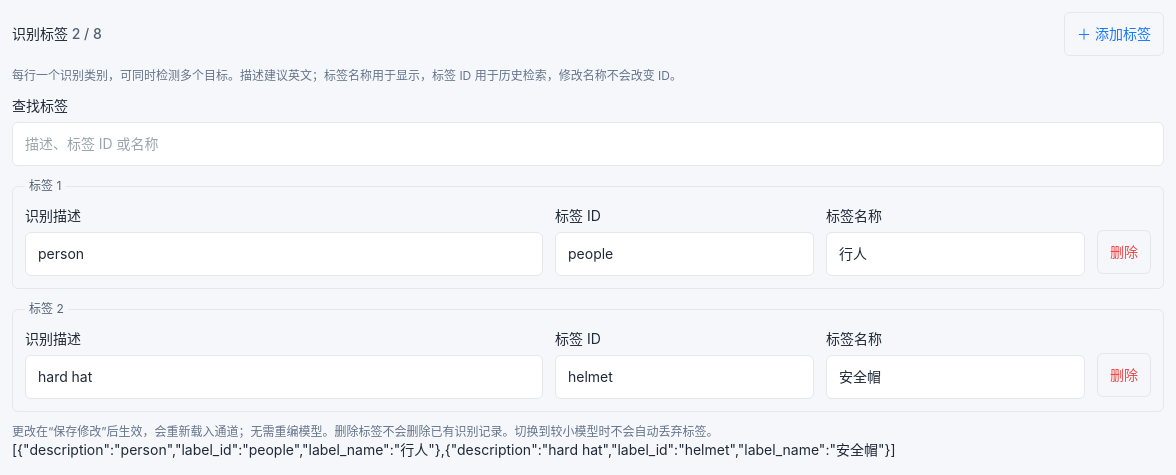
PromptLabelEditor › 最后一个标签不能删除
The width and height of the screenshot is (1176, 475).
Click the button with aria-label "删除标签 2": {"x": 1124, "y": 375} x1=1097 y1=353 x2=1151 y2=397
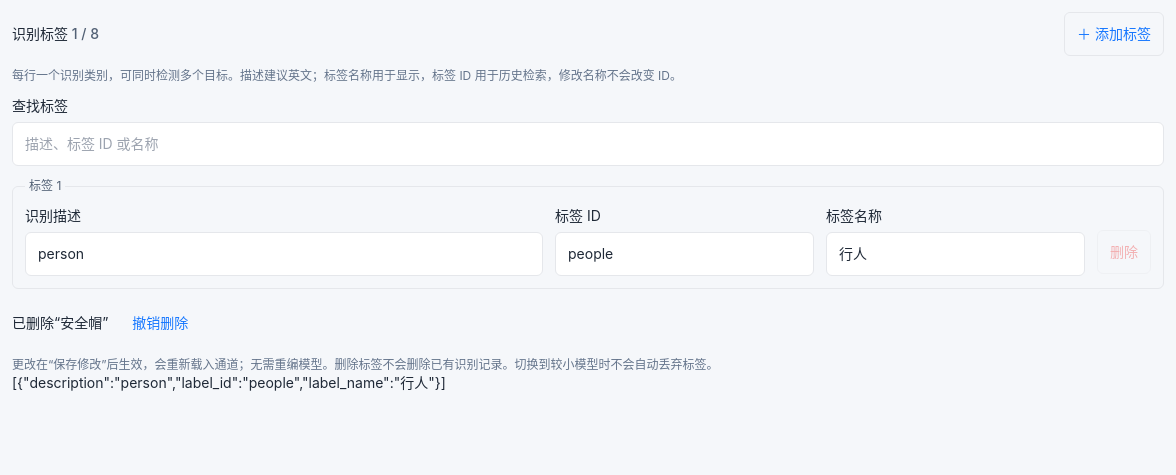
Now the button with aria-label "删除标签 1" is disabled, box x1=1097 y1=230 x2=1151 y2=274
